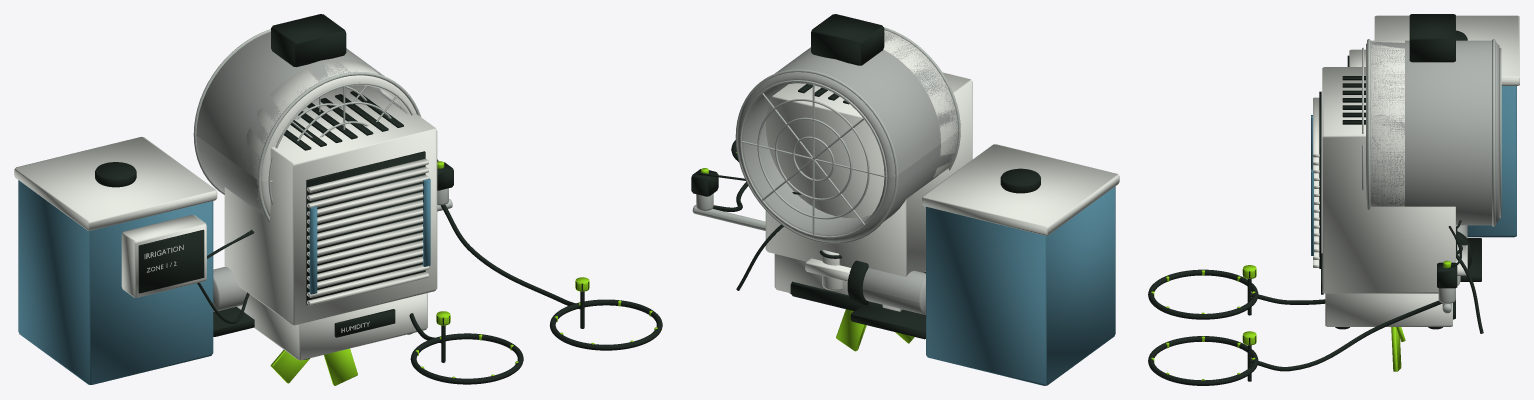
The model's file is climate-systems.glb.
3 renders of one model, left to right at view 1: azimuth 30°, elevation 25°; view 2: azimuth 150°, elevation 25°; view 3: azimuth 270°, elevation 25°, orthographic. The views are drawn at different scales.
Visible parts, largest first — view 1: irrigation_drip.002, humidifier_evaporative.002, fan_inline.002, fan_clip.002, irrigation_ring.002, rotor_clip.002; view 2: irrigation_drip.002, fan_inline.002, humidifier_evaporative.002, fan_clip.002, rotor_clip.002; view 3: humidifier_evaporative.002, fan_inline.002, irrigation_drip.002, fan_clip.002, irrigation_ring.002, rotor_clip.002.
Boxes of the visible parts, left/top/right/bottom form: irrigation_drip.002: left=14, top=136, right=589, bottom=384; humidifier_evaporative.002: left=224, top=85, right=437, bottom=360; fan_inline.002: left=193, top=14, right=420, bottom=222; fan_clip.002: left=243, top=60, right=416, bottom=215; irrigation_ring.002: left=410, top=299, right=662, bottom=384; rotor_clip.002: left=270, top=348, right=357, bottom=385; irrigation_drip.002: left=691, top=144, right=1119, bottom=385; fan_inline.002: left=735, top=14, right=960, bottom=243; humidifier_evaporative.002: left=765, top=72, right=972, bottom=311; fan_clip.002: left=736, top=30, right=958, bottom=310; rotor_clip.002: left=836, top=309, right=914, bottom=351; humidifier_evaporative.002: left=1311, top=67, right=1455, bottom=329; fan_inline.002: left=1367, top=14, right=1501, bottom=226; irrigation_drip.002: left=1242, top=15, right=1519, bottom=381; fan_clip.002: left=1362, top=40, right=1483, bottom=333; irrigation_ring.002: left=1148, top=269, right=1258, bottom=385; rotor_clip.002: left=1390, top=327, right=1405, bottom=371.
Size of the model in its own units: 0.93 by 0.6426 by 0.64.
